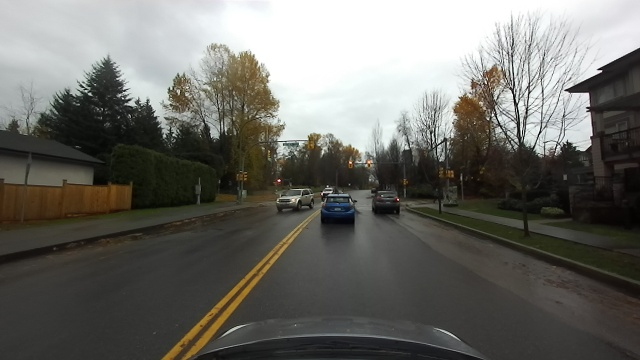car: (317, 191, 359, 223), (274, 184, 318, 213), (368, 186, 404, 214), (320, 185, 342, 199)
